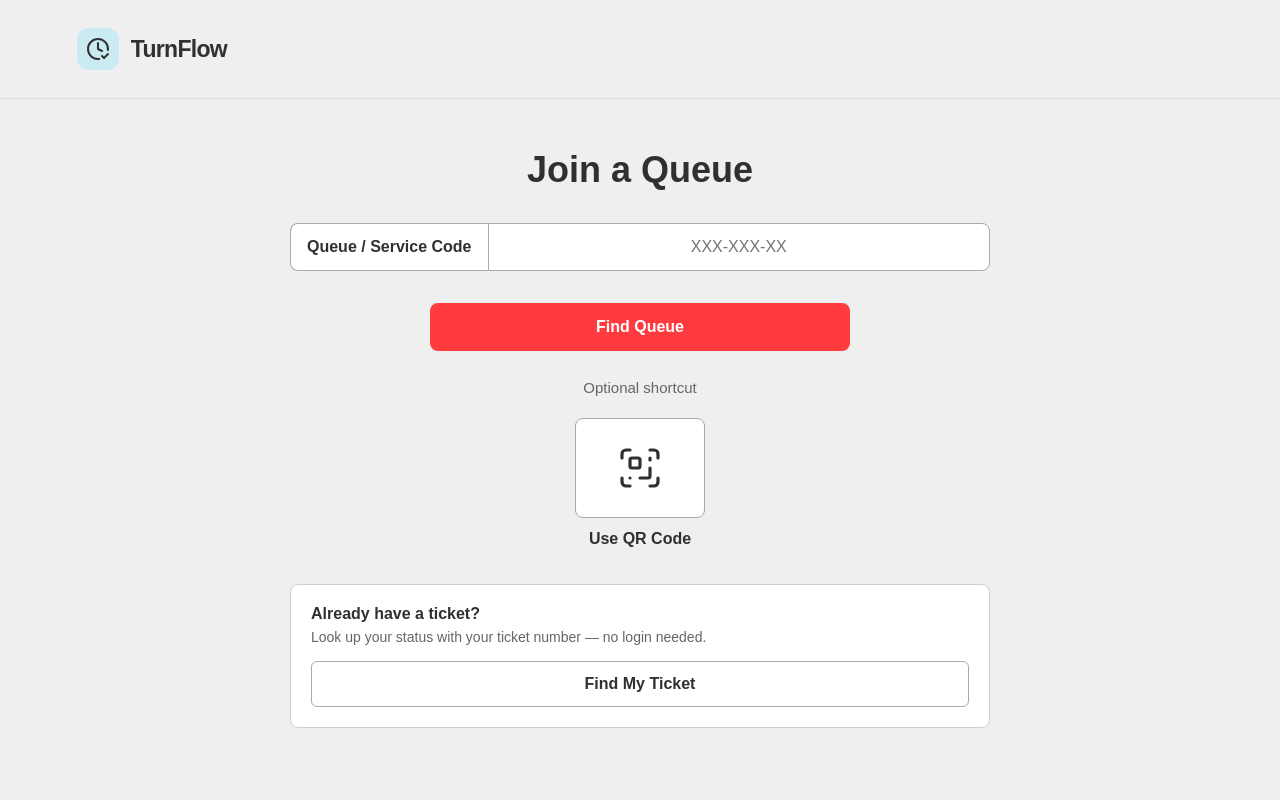
it: CustomerJoinQueue › shows an error when the queue does not exist
Type "XYZ-999-99" into the field labelled "Queue / Service Code".
click(739, 247); type("XYZ-999-99")  # box [488, 223, 990, 271]
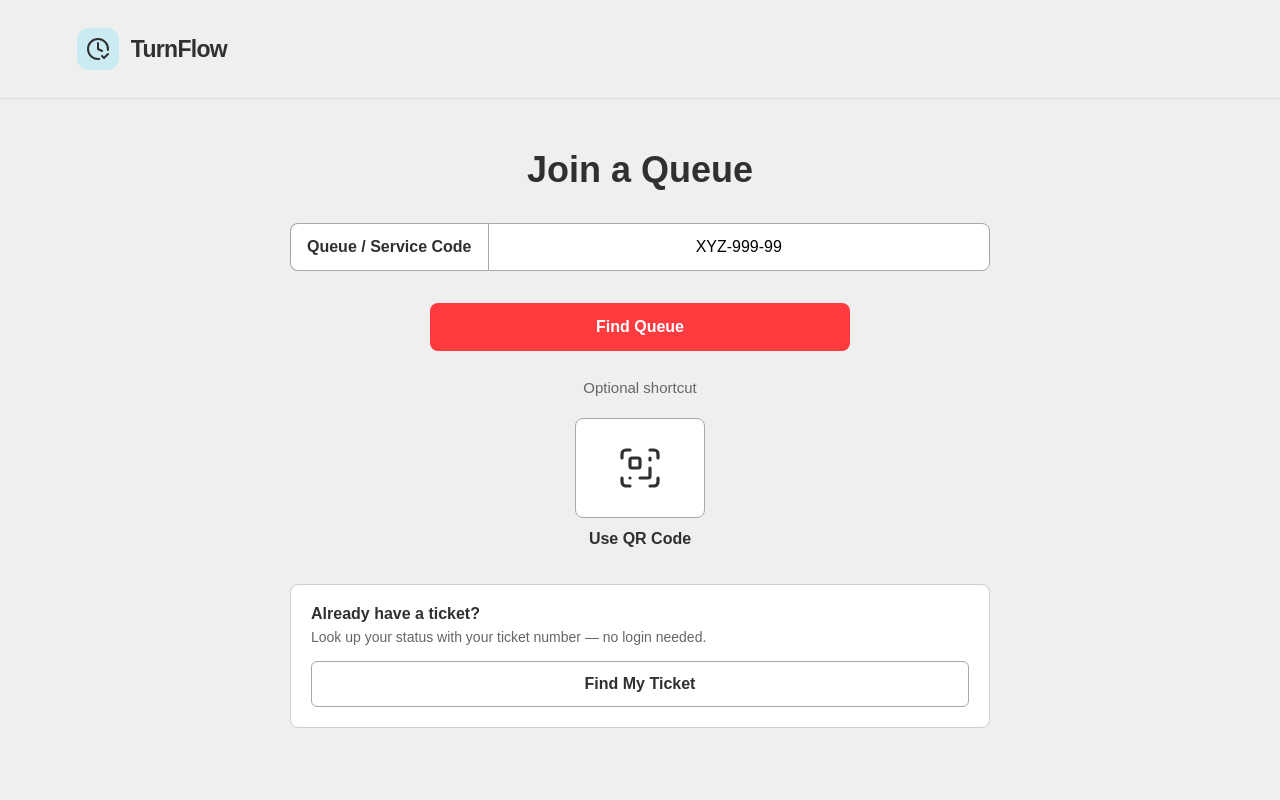
Click the button "Find Queue".
click(640, 327)  # box [430, 303, 850, 351]
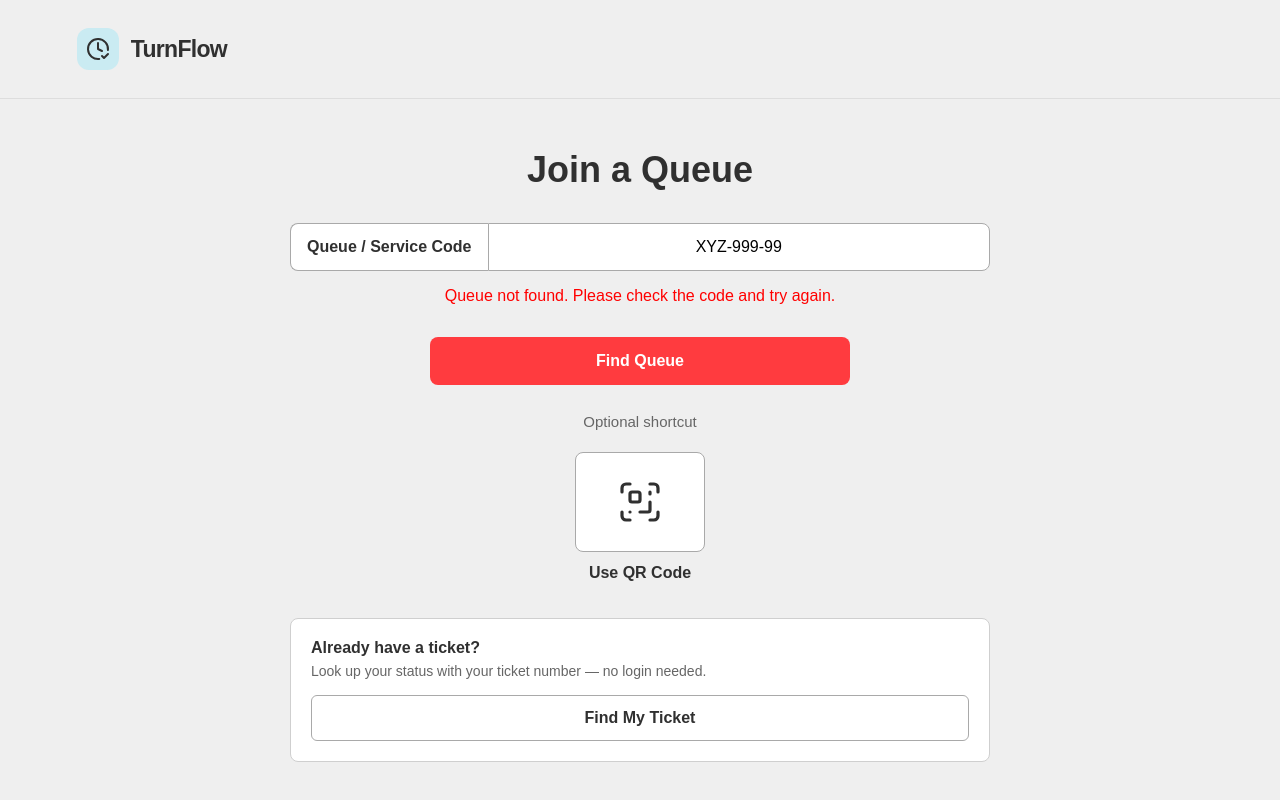
Now the text "Queue not found. Please check the code and try again." is shown, box [445, 287, 835, 304]
